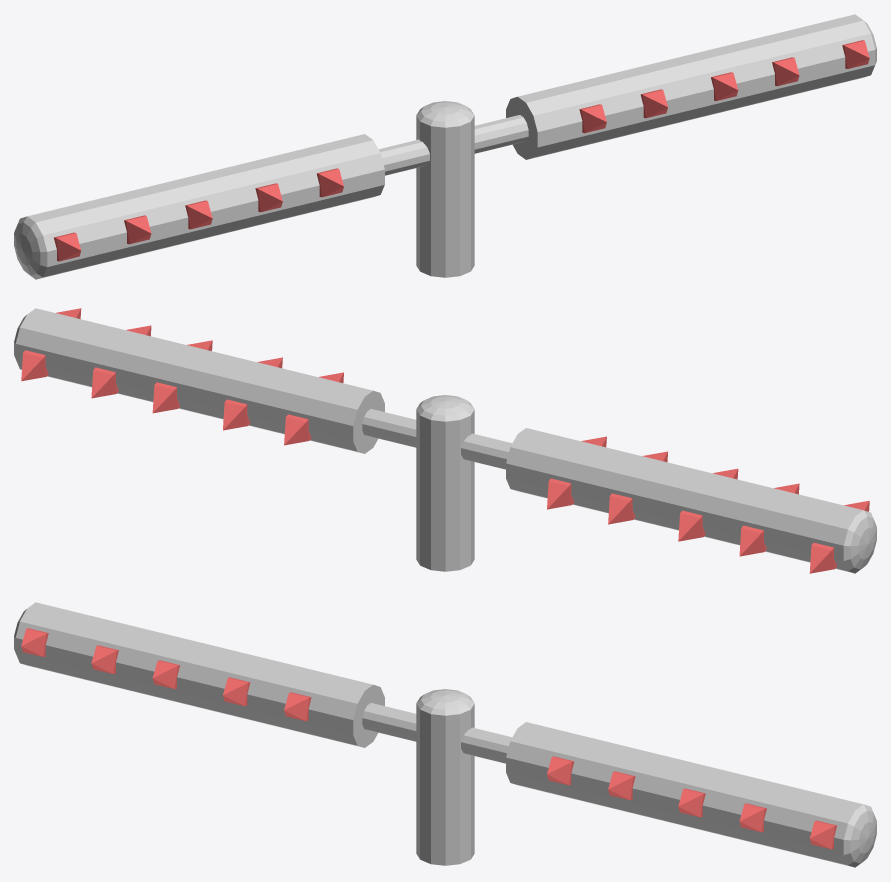
The model's file is RotateThorns02.fbx.
3 views of the same model, one above another, from view 1: azimuth 30°, elevation 25°; view 2: azimuth 150°, elevation 25°; view 3: azimuth 330°, elevation 25° (orthographic).
Parts seen in each view (by area): view 1: RotateThorns02; view 2: RotateThorns02; view 3: RotateThorns02.
Boxes of the visible parts, x1,y1,x2,y2 form: RotateThorns02: (14,14,876,279); RotateThorns02: (14,308,876,573); RotateThorns02: (14,602,876,867).
Bounding box in the file's own units: 643 × 115 × 79.18.
